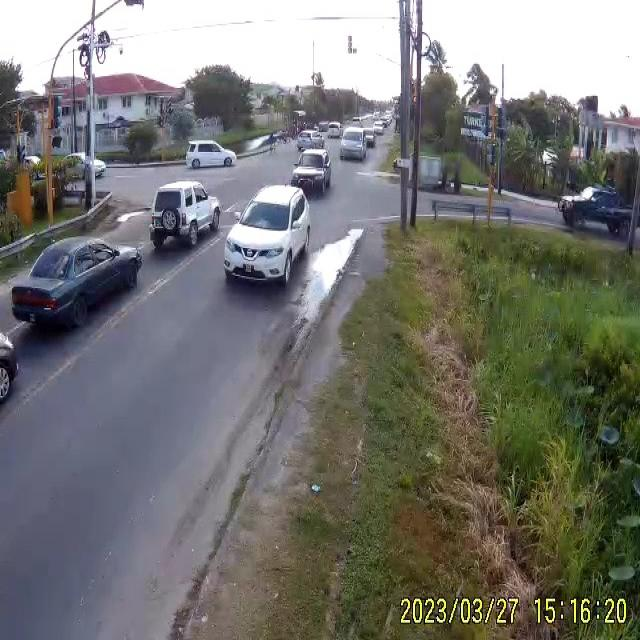car: (9, 237, 142, 334), (222, 185, 311, 283), (150, 182, 221, 246), (562, 189, 628, 233), (290, 151, 330, 198), (187, 141, 237, 170), (338, 127, 366, 161), (296, 131, 322, 149)
